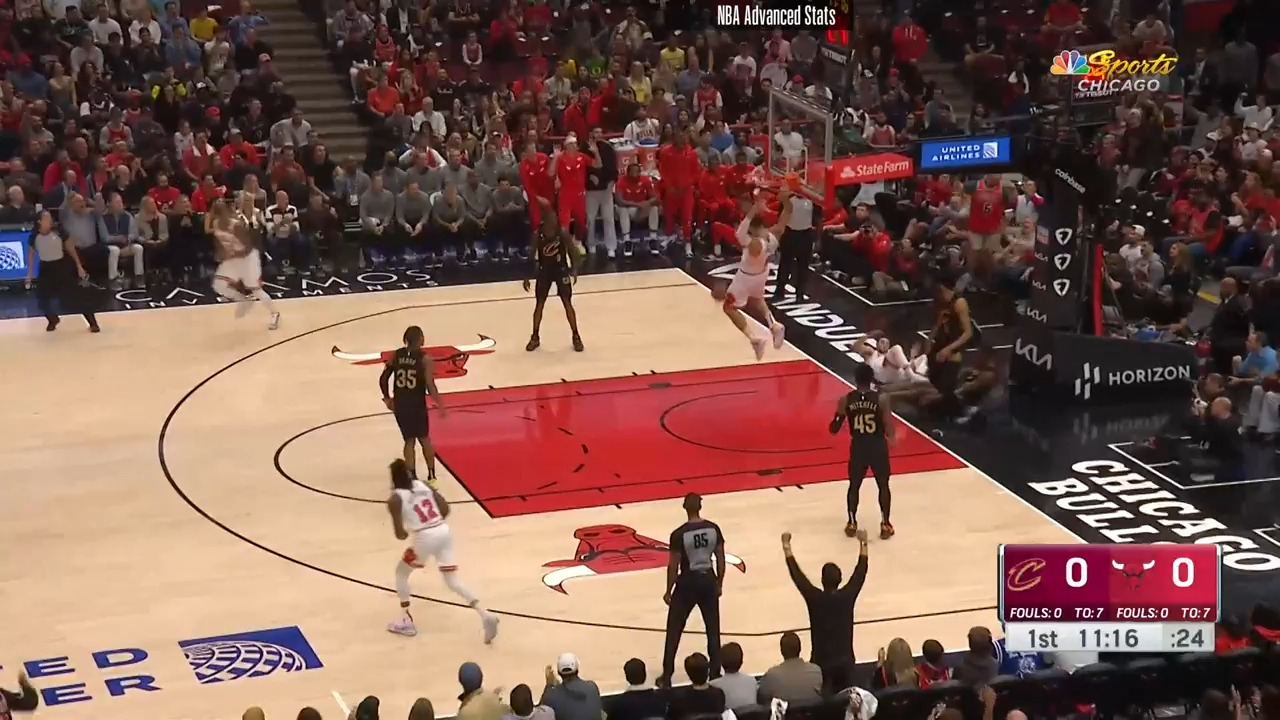net: (742, 160, 805, 209)
player: (380, 458, 505, 646), (715, 190, 801, 364), (829, 364, 911, 543), (380, 318, 467, 479), (517, 200, 588, 358), (207, 205, 288, 330), (935, 274, 986, 432), (844, 327, 931, 400)
referee: (653, 490, 743, 679), (33, 190, 105, 338)
